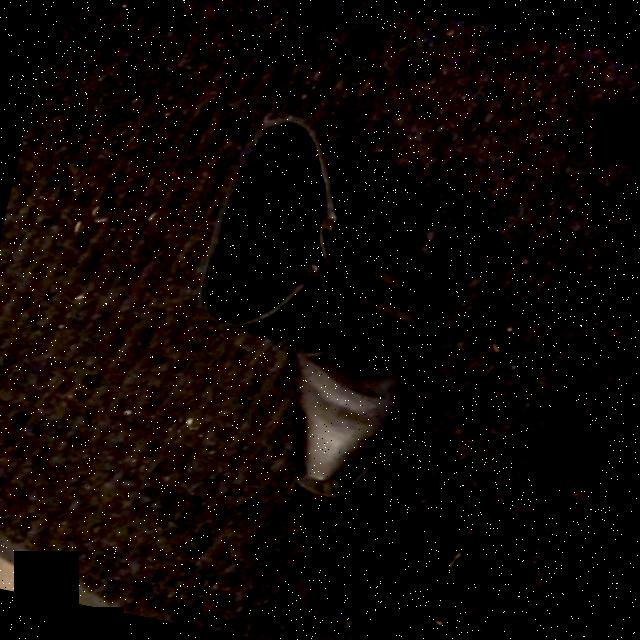shoe: (208, 119, 434, 502)
